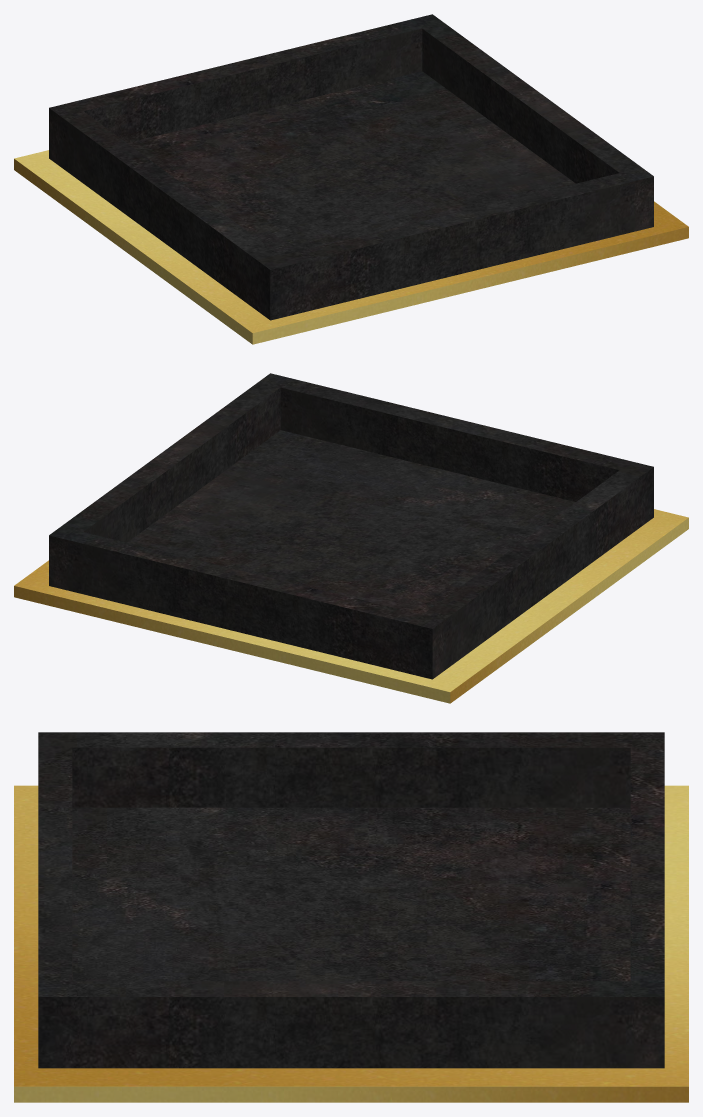
File: roof.fbx
The picture shows the model from 3 angles, top to bottom: view 1: azimuth 30°, elevation 25°; view 2: azimuth 150°, elevation 25°; view 3: azimuth 270°, elevation 25°; orthographic projection. The views are drawn at different scales.
Visible parts, largest first — view 1: pCube2; view 2: pCube2; view 3: pCube2.
Boxes of the visible parts, x1=… form: pCube2: x1=14, y1=14, x2=688, y2=344; pCube2: x1=14, y1=373, x2=688, y2=703; pCube2: x1=14, y1=732, x2=688, y2=1102.
Size of the model in its own units: 26.2 by 3.56 by 24.82.
2 materials, 2 textured.
